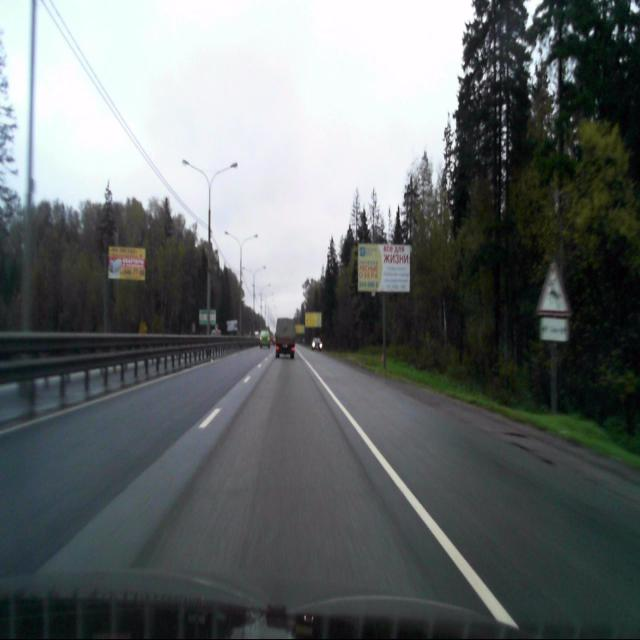road sign: (536, 260, 572, 316), (540, 318, 569, 340)
